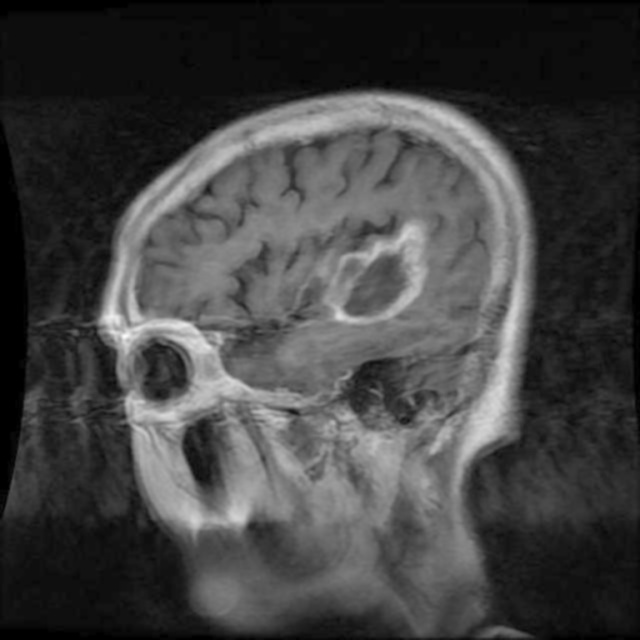pituitary tumor: (322, 221, 428, 324)
